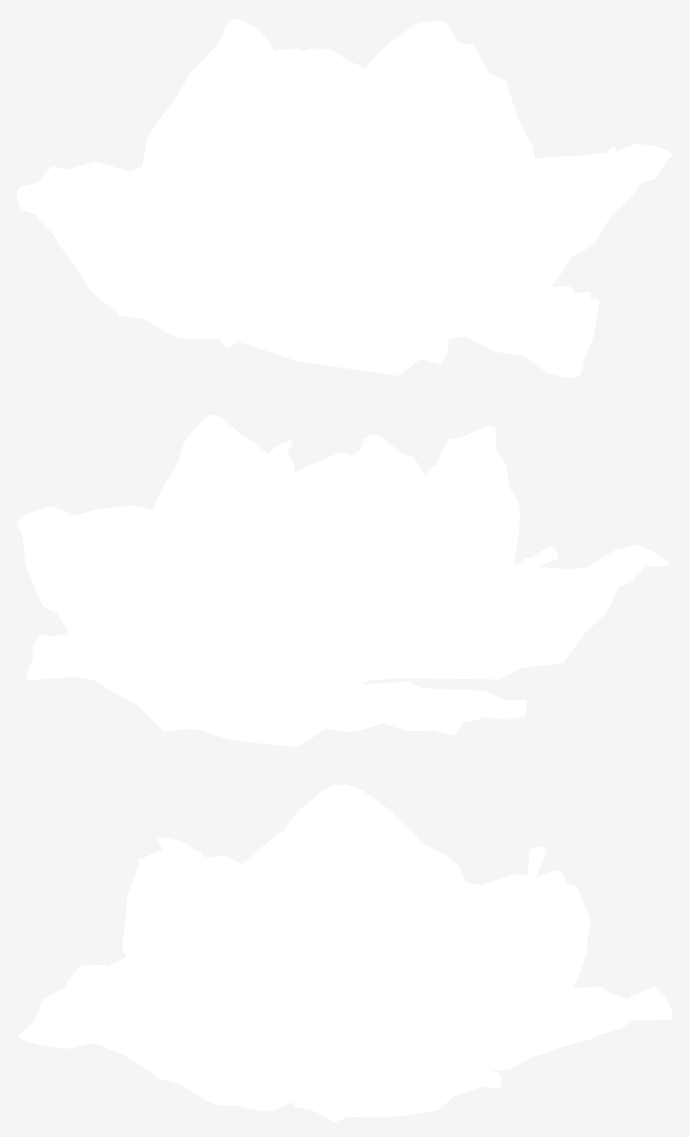
3 views of the same model, one above another, from view 1: azimuth 30°, elevation 25°; view 2: azimuth 150°, elevation 25°; view 3: azimuth 270°, elevation 25° (orthographic). The views are drawn at different scales.
Parts seen in each view (by area): view 1: SM_Cabbage_01_LOD0; view 2: SM_Cabbage_01_LOD0; view 3: SM_Cabbage_01_LOD0.
Boxes of the visible parts, <box> form: SM_Cabbage_01_LOD0: <box>16,19,672,377</box>; SM_Cabbage_01_LOD0: <box>17,414,669,746</box>; SM_Cabbage_01_LOD0: <box>19,784,671,1122</box>.
Size of the model in its own units: 0.8959 by 0.3506 by 0.9563.
Materials: 1 (1 with a texture image).
